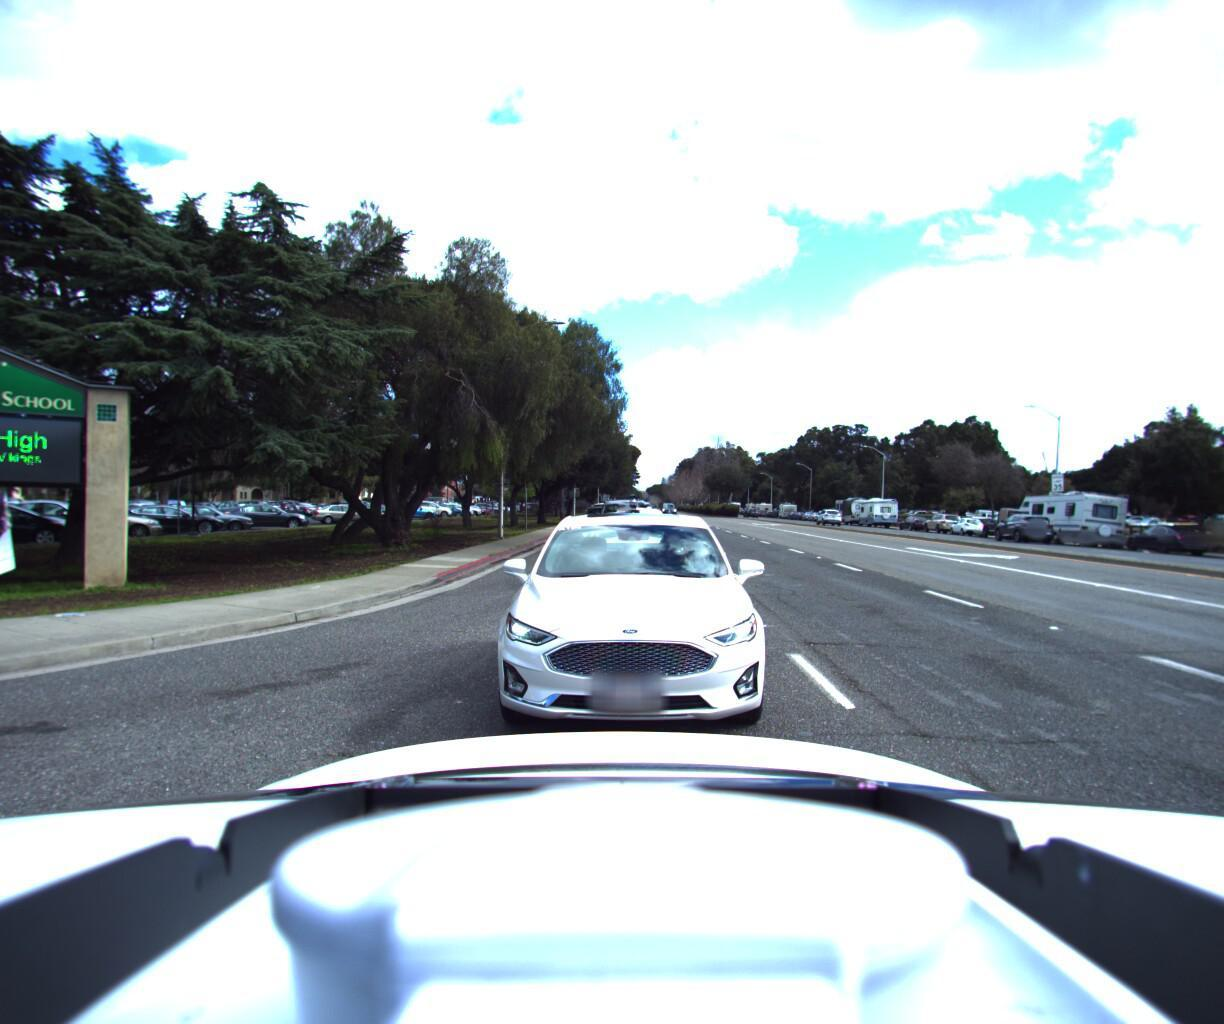car: (476, 501, 782, 755), (569, 492, 672, 591), (618, 497, 691, 568), (1118, 528, 1216, 562), (588, 496, 644, 549), (984, 513, 1044, 544), (942, 518, 988, 539), (921, 513, 963, 535), (812, 509, 840, 526)
other_vehicle: (1012, 487, 1131, 554), (979, 506, 1044, 546)
